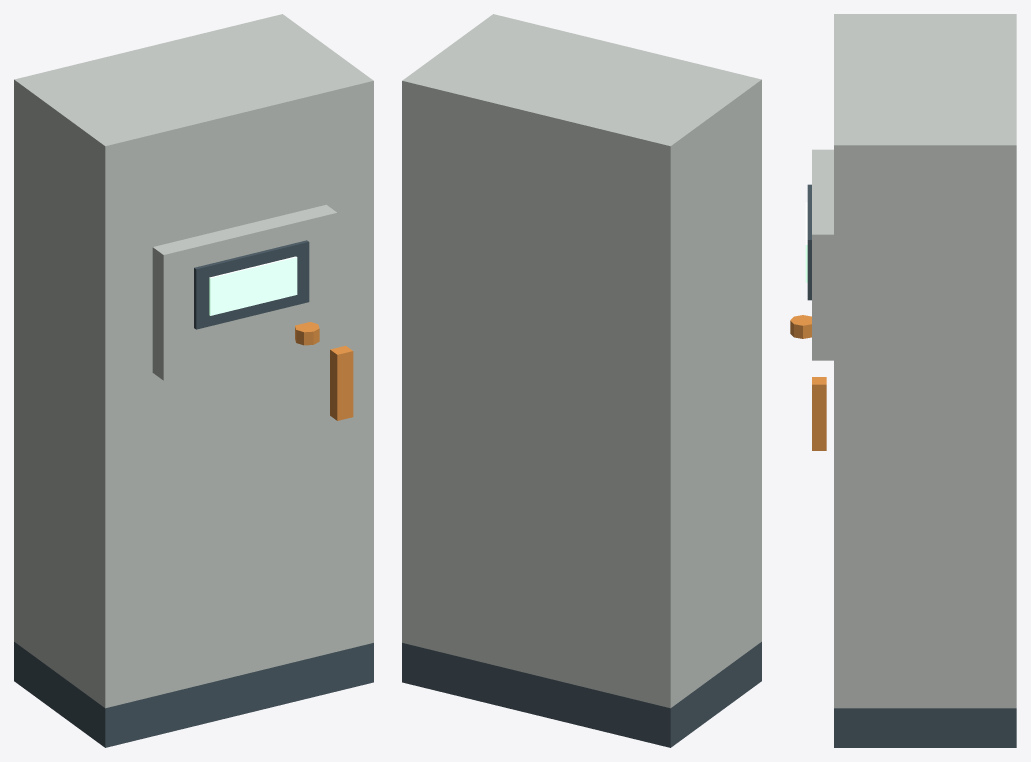
Rendered from power-distribution-cabinet.glb.
The picture shows the model from 3 angles, left to right: view 1: azimuth 30°, elevation 25°; view 2: azimuth 150°, elevation 25°; view 3: azimuth 270°, elevation 25°; orthographic projection.
Visible parts, largest first — view 1: cream, dark, light, orange; view 2: cream, dark; view 3: cream, dark, orange.
Boxes of the visible parts, left/top/right/bottom form: cream: left=14, top=14, right=373, bottom=708; dark: left=14, top=240, right=373, bottom=747; light: left=209, top=256, right=297, bottom=315; orange: left=295, top=322, right=353, bottom=420; cream: left=402, top=14, right=761, bottom=708; dark: left=402, top=642, right=761, bottom=747; cream: left=812, top=14, right=1016, bottom=708; dark: left=807, top=184, right=1016, bottom=747; orange: left=790, top=315, right=826, bottom=450.
Size of the model in its own units: 0.8501 by 1.82 by 0.62.
